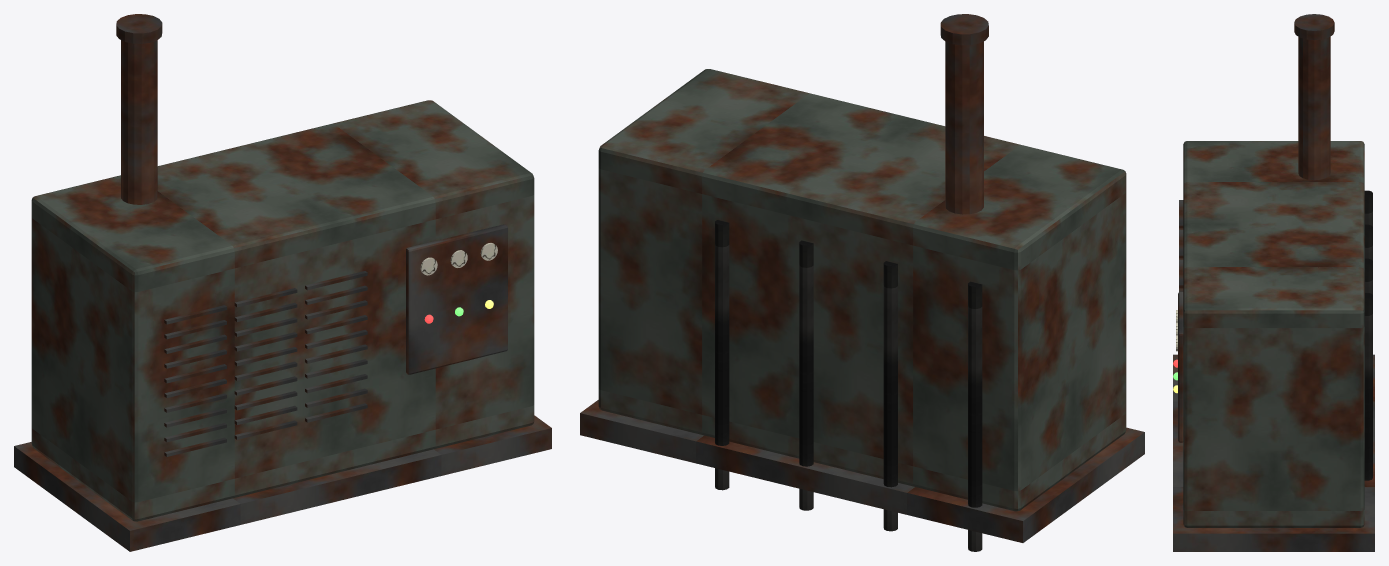
Rendered from Y28_LabGenerator.glb.
The picture shows the model from 3 angles, left to right: view 1: azimuth 30°, elevation 25°; view 2: azimuth 150°, elevation 25°; view 3: azimuth 270°, elevation 25°; orthographic projection. The views are drawn at different scales.
Parts seen in each view (by area): view 1: Y28_LabGenerator; view 2: Y28_LabGenerator; view 3: Y28_LabGenerator.
Boxes of the visible parts, box(x1,y1,x2,y2) form: Y28_LabGenerator: box(14, 14, 551, 551); Y28_LabGenerator: box(580, 14, 1144, 551); Y28_LabGenerator: box(1173, 14, 1374, 551).
Size of the model in its own units: 1.89 by 2 by 0.8989.
7 materials, 7 textured.
